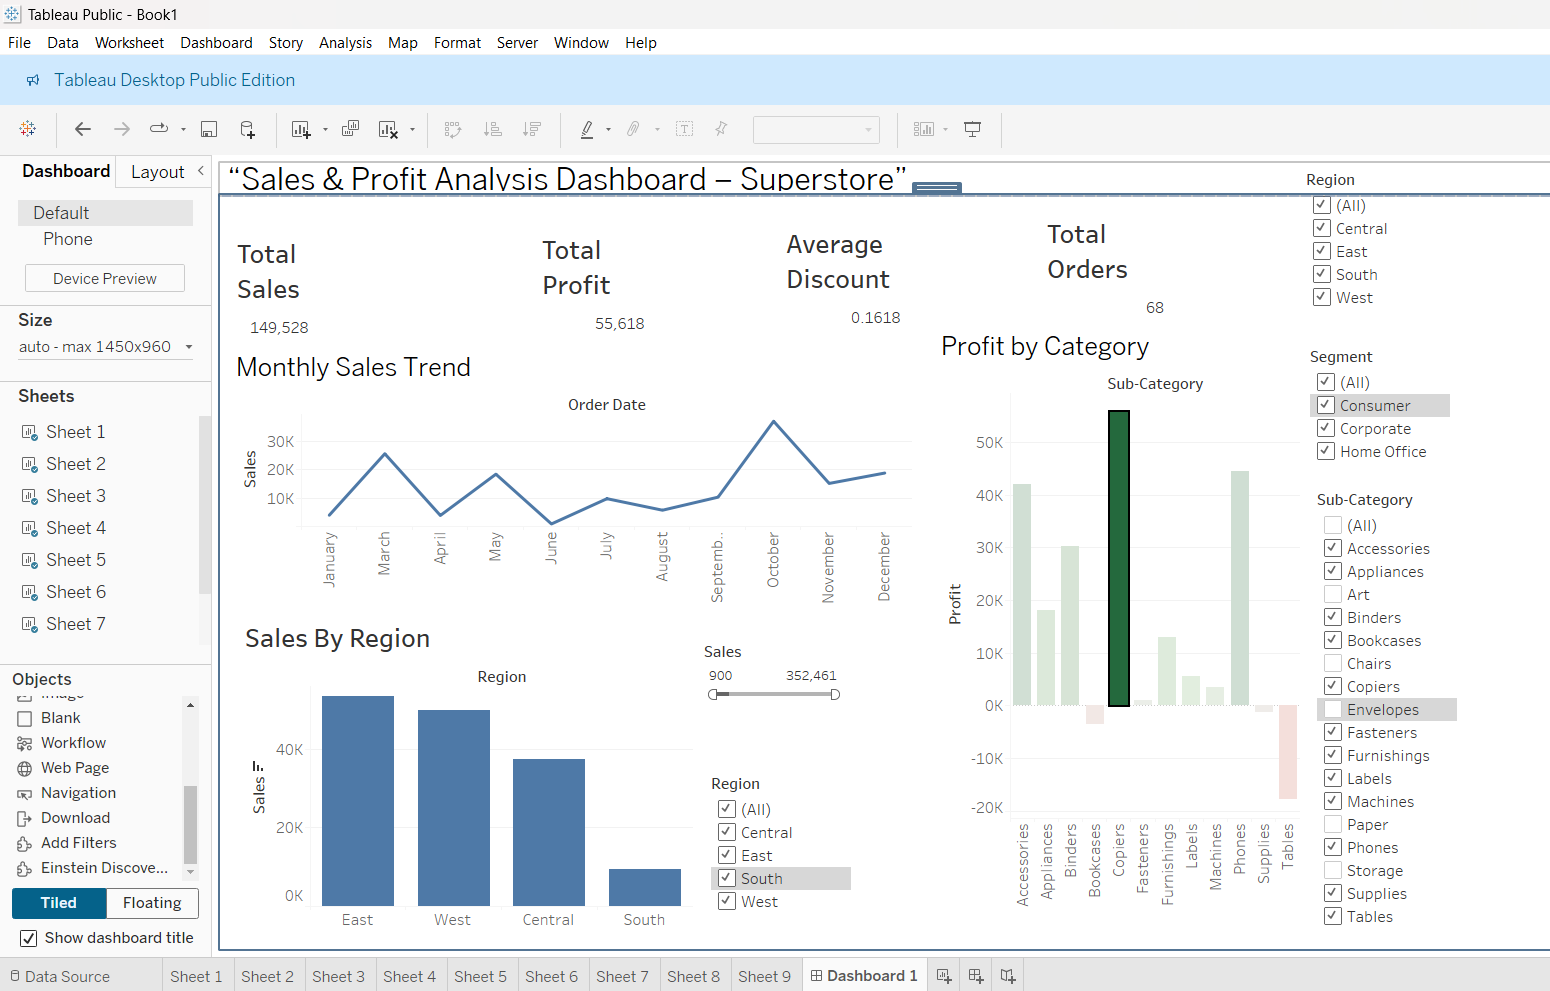

This screenshot's page, from the dashboard's own definition file:
{"tool":"tableau","page":{"name":"Dashboard 1","canvas":[1000,1000],"units":"permille","ordinal":0},"visuals":[{"type":"title","box":[5.5,10,989,39.9]},{"type":"filter","title":"Sheet 5","param":"[federated.04pyzly0xpd7ff17e41631brcbwb].[none:Region:nk]","box":[754.5,17.5,110.3,178.3]},{"type":"worksheet","title":"Sheet 3","mark":"Automatic","box":[573.1,71.1,86.9,179.6]},{"type":"worksheet","title":"Sheet 4","mark":"Automatic","box":[393.1,83.5,84.8,134.7]},{"type":"worksheet","title":"Sheet 2","mark":"Automatic","box":[224.8,91,76.5,144.6]},{"type":"worksheet","title":"Sheet 1","mark":"Automatic","box":[14.5,96,213.1,132.2]},{"type":"worksheet","title":"Sheet 6","mark":"Automatic","rows":["Profit"],"cols":["Sub-Category"],"box":[500,213.2,250.3,738.1]},{"type":"filter","title":"Sheet 7","param":"[federated.04pyzly0xpd7ff17e41631brcbwb].[none:Segment:nk]","box":[757.2,238.2,96.5,149.6]},{"type":"worksheet","title":"Sheet 7","mark":"Automatic","rows":["Sales"],"cols":["Order Date"],"box":[13.8,239.4,469,322.9]},{"type":"filter","title":"Sheet 6","param":"[federated.04pyzly0xpd7ff17e41631brcbwb].[none:Sub-Category:nk]","box":[761.8,416.5,97,551.1]},{"type":"worksheet","title":"Sheet 5","mark":"Automatic","rows":["Sales"],"cols":["Region"],"box":[20,574.8,311.7,392.8]},{"type":"filter","title":"Sheet 7","param":"[federated.04pyzly0xpd7ff17e41631brcbwb].[sum:Sales:qk]","box":[339.3,606,96.5,81]},{"type":"filter","title":"Sheet 7","param":"[federated.04pyzly0xpd7ff17e41631brcbwb].[none:Region:nk]","box":[344.1,770.6,96.5,178.3]}]}

Visuals, with their boxes on the dashboard's canvas, which has no fixed pixel size, in thousandths of its width and height (x1, y1, x2, y2). These are canvas units, not pixel positions in the 1550x991 screenshot, which may show the page scaled, cropped or inside an application window:
title: <box>6,10,994,50</box>
"Sheet 5" filter: <box>754,18,865,196</box>
"Sheet 3" worksheet: <box>573,71,660,251</box>
"Sheet 4" worksheet: <box>393,84,478,218</box>
"Sheet 2" worksheet: <box>225,91,301,236</box>
"Sheet 1" worksheet: <box>14,96,228,228</box>
"Sheet 6" worksheet: <box>500,213,750,951</box>
"Sheet 7" filter: <box>757,238,854,388</box>
"Sheet 7" worksheet: <box>14,239,483,562</box>
"Sheet 6" filter: <box>762,416,859,968</box>
"Sheet 5" worksheet: <box>20,575,332,968</box>
"Sheet 7" filter: <box>339,606,436,687</box>
"Sheet 7" filter: <box>344,771,441,949</box>
